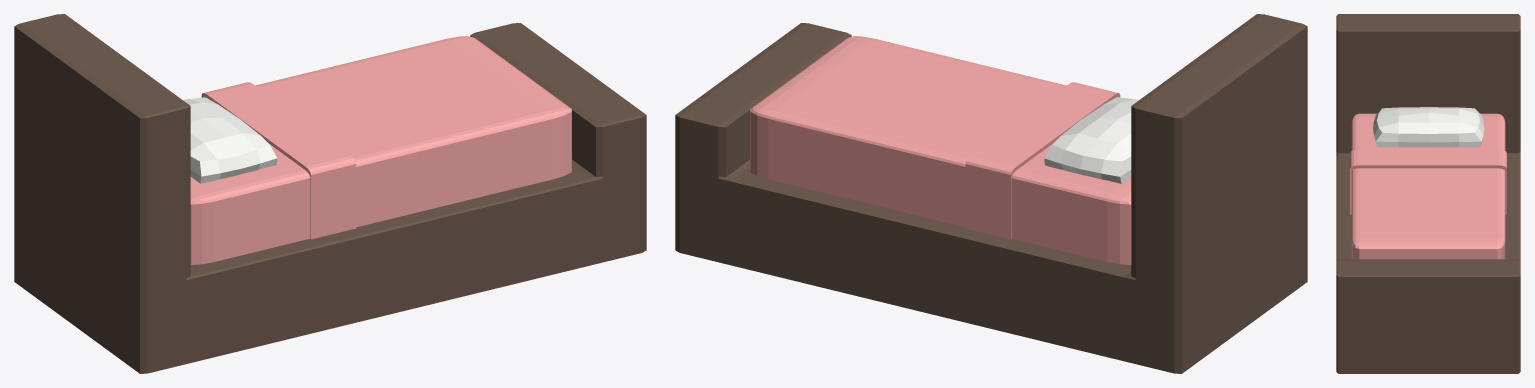
The model's file is Cama_Individual_02.fbx.
The picture shows the model from 3 angles, left to right: view 1: azimuth 30°, elevation 25°; view 2: azimuth 150°, elevation 25°; view 3: azimuth 270°, elevation 25°; orthographic projection. The views are drawn at different scales.
Parts seen in each view (by area): view 1: Cama_Individual_02; view 2: Cama_Individual_02; view 3: Cama_Individual_02.
Part boxes in pixels (x1,y1,x2,y2): Cama_Individual_02: (14,14,646,373); Cama_Individual_02: (675,14,1307,373); Cama_Individual_02: (1336,14,1520,373).
Size of the model in its own units: 250 by 121 by 110.
